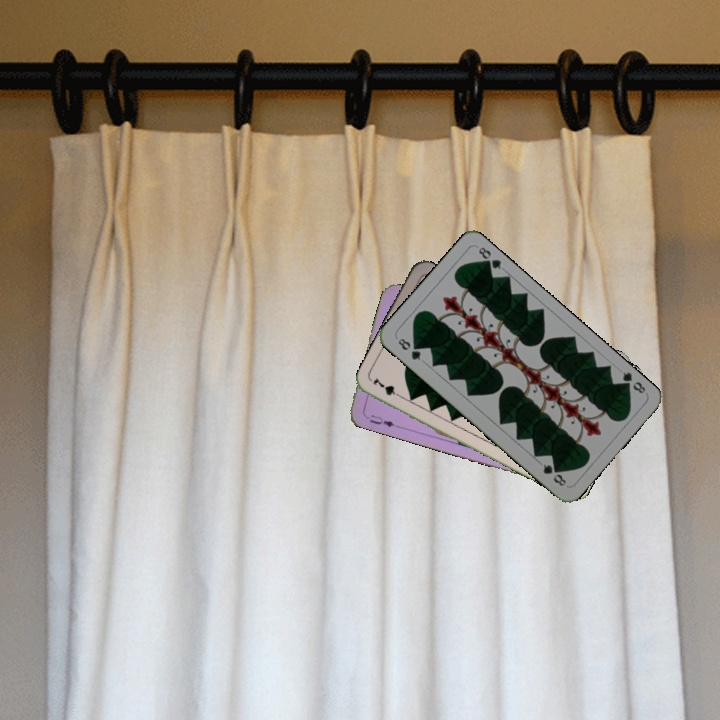EU: (360, 410, 399, 429)
G7: (369, 374, 407, 402)
G8: (616, 367, 648, 396), (394, 334, 424, 363)
